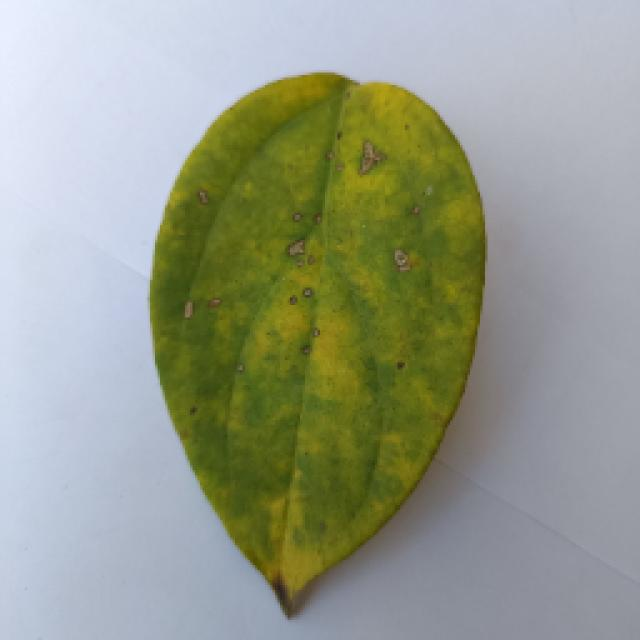slow-decline: (130, 70, 500, 620)
